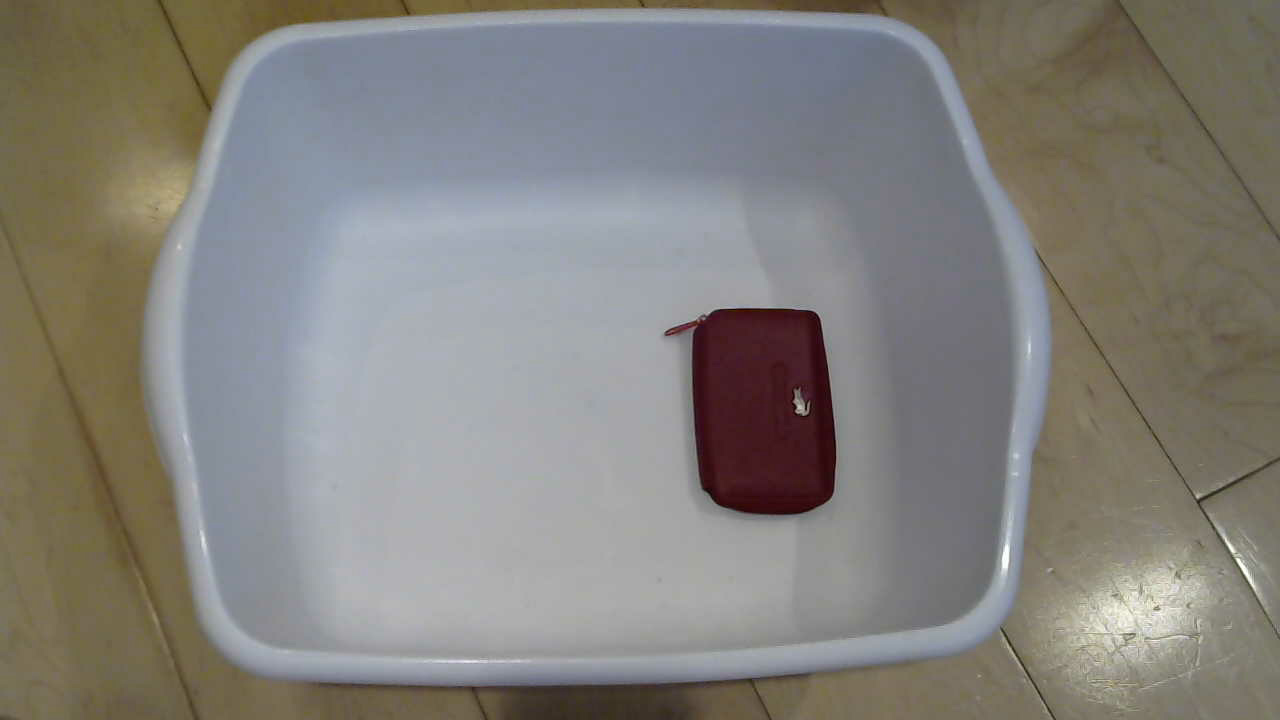wallet: (681, 298, 869, 529)
